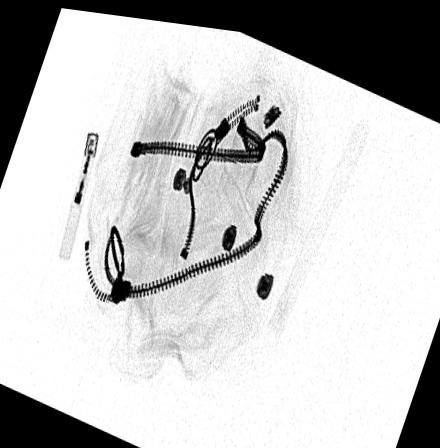Lighter: (57, 127, 100, 258)
